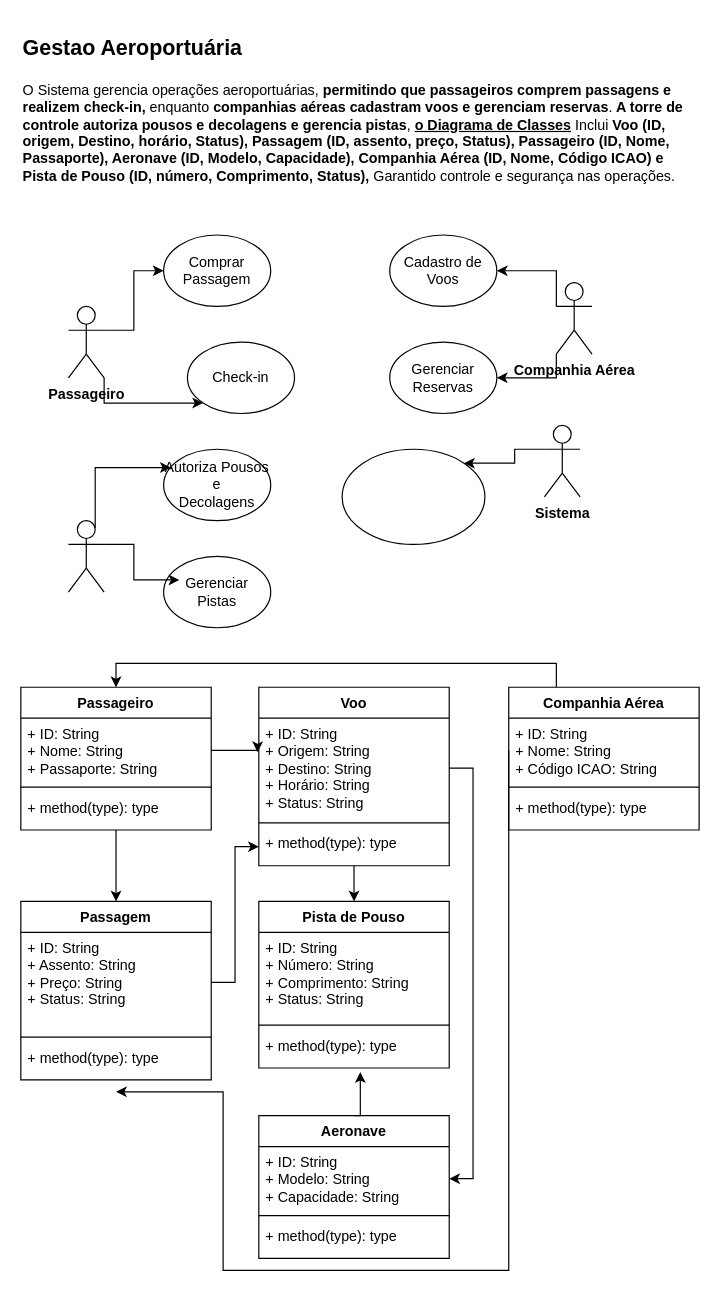
Some shapes in this 720 by 1301 pixel diagram are drawn without their labels. The centre of each missing label's shape, as x and y in pixels:
"Gerencia Operações aeroportuárias" belongs at (x=413, y=496).
"Torre de Controle" belongs at (x=85, y=555).
